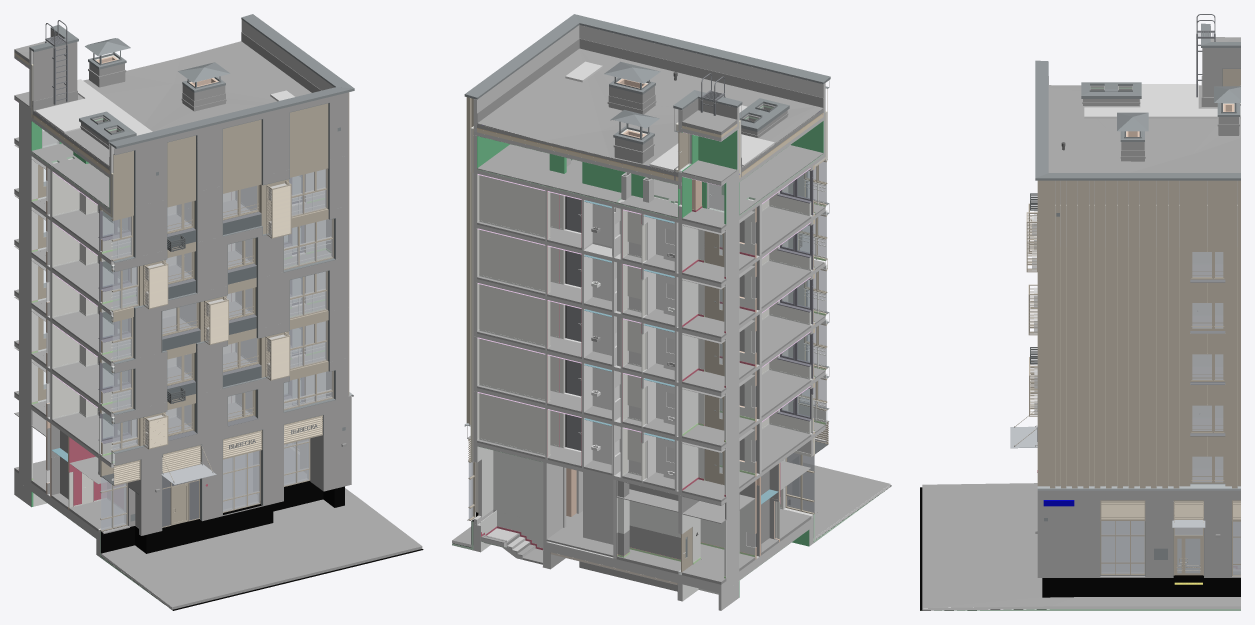
The model's file is Kas_1.glb.
The picture shows the model from 3 angles, left to right: view 1: azimuth 30°, elevation 25°; view 2: azimuth 150°, elevation 25°; view 3: azimuth 270°, elevation 25°; orthographic projection. The views are drawn at different scales.
Parts seen in each view (by area): view 1: MD_??_?????_??? 1_225 ??_???????? ?????? (????-???????) (×9), MD_??????_??? IV_????????, MD_??? I_???????? ?????? ??? ????????, MD_??_?????_??? 2_70 ?? ???????? ??????? (??????? ?????????) (×4), MD_??_??? ?18_??-????? ??????? (×5), ??1.1_1940?1800(h) (×7), MD_??_??? ?3.2_ (?? ??? 1) ??_?? ??????, ???????????? (×5), MD_??_??????????_????????????? ??????????????_100??_?? ????? (×4), MD_???????_Ral 7011 (×2), ??-1.3_1200?600?2400(h) (×3), MD_??_?????_??? 1_220 ??_???????? ?????? (????-???????) (×2), ??2_2550?1800(h) (×3) (+21 smaller); view 2: MD_??? I_???????? ?????? ??? ????????, MD_??_??? ?3.1_(?? ??? 1)_ ??-????-???_?? ?????????????? ??? (×5), MD_??_??? ?25 W4 F75_200 (×7), MD_??_??? ?25 W4 F75_200 ?? (×7), MD_??_??? ?11_??????????? ???? ???????_100 ??, MD_??_??? ?2_(?? ??? 5) ?????-????-??-??????-????????-??-??? (×7), MD_??_??? ?18_??-????? ??????? (×5), MD_??_??? ?30 W4 F75_200 ?? (×3), MD_???????_Ral 7011 (×2), MD_??????_??? IV_????????, MD_??_??? ?4.1_(?? ??? 2) ??, ???_?? ?? ?????????????? ????? (×5), MD_??_?????????????_??????_????. (×2) (+24 smaller); view 3: MD_??_?????_??? 2_?????_35 ??_???????? ??????? (??????? ???) (×17), MD_??_?????_??? 2_?????_35 ??_???????? ??????? (??????? ???_ (×15), MD_??????_??? IV_????????, MD_??_?????_??? 1_220 ??_???????? ?????? (????-???????) (×2), MD_??? I_???????? ?????? ??? ????????, ??1_1940?1800(h) (×5), MD_??_??????????????_?????_110+50 ?? (×6), MD_??_??????????_????????????? ??????????????_100??_?? ????? (×5), MD_???????_Ral 7011 (×2), MD_??? I*_?????????? ???????? ???????_120??, MD_??_??? ?8_1???? ??? (?????????? ?????????)_90 ??, MD_??_?????_??? 1_80 ??_???????? ?????? (????-???????) (+10 smaller).
Boxes of the visible parts, bbox=[...] form: MD_??_?????_??? 1_225 ??_???????? ?????? (????-???????) (×9): bbox=[114, 92, 351, 534]; MD_??????_??? IV_????????: bbox=[100, 488, 422, 609]; MD_??? I_???????? ?????? ??? ????????: bbox=[31, 41, 311, 174]; MD_??_?????_??? 2_70 ?? ???????? ??????? (??????? ?????????) (×4): bbox=[113, 103, 328, 220]; MD_??_??? ?18_??-????? ??????? (×5): bbox=[52, 210, 122, 454]; ??1.1_1940?1800(h) (×7): bbox=[165, 201, 254, 436]; MD_??_??? ?3.2_ (?? ??? 1) ??_?? ??????, ???????????? (×5): bbox=[52, 171, 79, 418]; MD_??_??????????_????????????? ??????????????_100??_?? ????? (×4): bbox=[100, 482, 323, 555]; MD_???????_Ral 7011 (×2): bbox=[109, 14, 354, 148]; ??-1.3_1200?600?2400(h) (×3): bbox=[143, 260, 290, 380]; MD_??_?????_??? 1_220 ??_???????? ?????? (????-???????) (×2): bbox=[310, 408, 351, 491]; ??2_2550?1800(h) (×3): bbox=[162, 185, 259, 372]; MD_??? I_???????? ?????? ??? ????????: bbox=[477, 48, 823, 181]; MD_??_??? ?3.1_(?? ??? 1)_ ??-????-???_?? ?????????????? ??? (×5): bbox=[479, 175, 545, 454]; MD_??_??? ?25 W4 F75_200 (×7): bbox=[473, 115, 825, 505]; MD_??_??? ?25 W4 F75_200 ?? (×7): bbox=[473, 25, 825, 496]; MD_??_??? ?11_??????????? ???? ???????_100 ??: bbox=[477, 144, 823, 218]; MD_??_??? ?2_(?? ??? 5) ?????-????-??-??????-????????-??-??? (×7): bbox=[493, 224, 755, 555]; MD_??_??? ?18_??-????? ??????? (×5): bbox=[761, 206, 811, 471]; MD_??_??? ?30 W4 F75_200 ?? (×3): bbox=[543, 462, 739, 579]; MD_???????_Ral 7011 (×2): bbox=[464, 14, 830, 99]; MD_??????_??? IV_????????: bbox=[452, 463, 890, 549]; MD_??_??? ?4.1_(?? ??? 2) ??, ???_?? ?? ?????????????? ????? (×5): bbox=[592, 204, 611, 464]; MD_??_?????????????_??????_????. (×2): bbox=[477, 38, 823, 123]; MD_??_?????_??? 2_?????_35 ??_???????? ??????? (??????? ???) (×17): bbox=[1037, 180, 1240, 486]; MD_??_?????_??? 2_?????_35 ??_???????? ??????? (??????? ???_ (×15): bbox=[1050, 180, 1237, 488]; MD_??????_??? IV_????????: bbox=[922, 483, 1240, 610]; MD_??_?????_??? 1_220 ??_???????? ?????? (????-???????) (×2): bbox=[1041, 490, 1240, 577]; MD_??? I_???????? ?????? ??? ????????: bbox=[1049, 85, 1240, 172]; ??1_1940?1800(h) (×5): bbox=[1190, 251, 1225, 483]; MD_??_??????????????_?????_110+50 ?? (×6): bbox=[1055, 205, 1237, 484]; MD_??_??????????_????????????? ??????????????_100??_?? ????? (×5): bbox=[1044, 575, 1240, 597]; MD_???????_Ral 7011 (×2): bbox=[1035, 60, 1240, 180]; MD_??? I*_?????????? ???????? ???????_120??: bbox=[1084, 84, 1240, 118]; MD_??_??? ?8_1???? ??? (?????????? ?????????)_90 ??: bbox=[1102, 521, 1143, 571]; MD_??_?????_??? 1_80 ??_???????? ?????? (????-???????): bbox=[1203, 48, 1240, 96].
Size of what is drawn, in the model's own units: 15.51 by 28.28 by 17.04.
